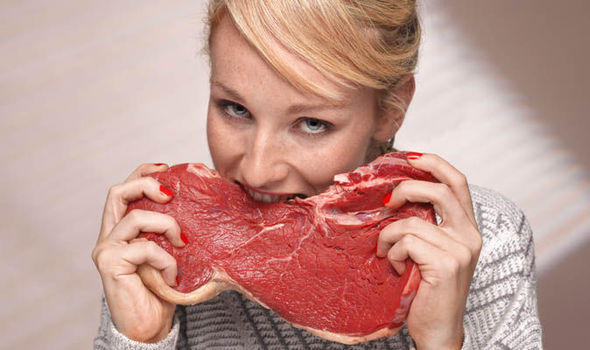eating: (148, 1, 438, 287)
